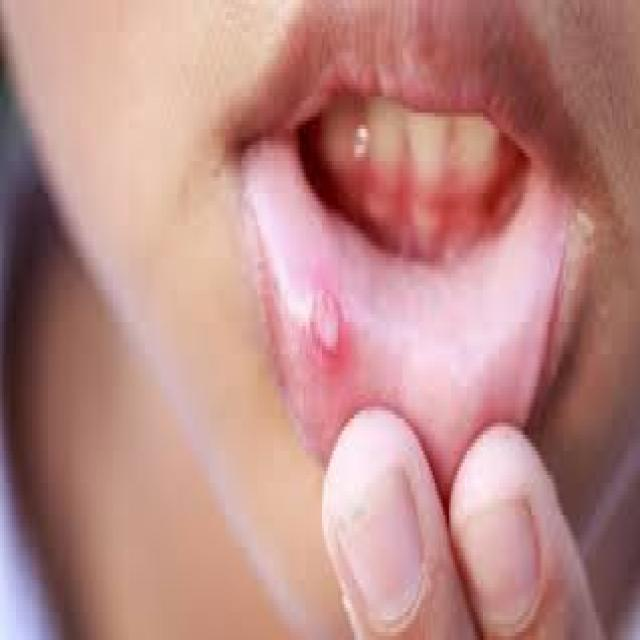left_region: (218, 67, 559, 530)
